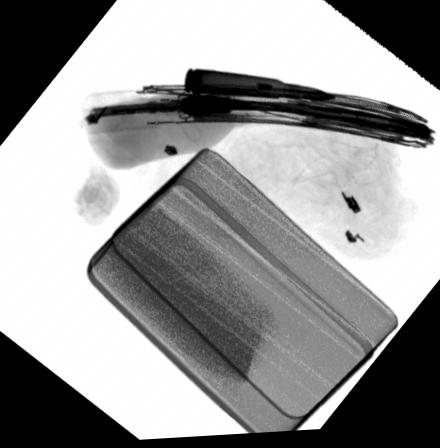Bullet: (183, 69, 337, 106)
